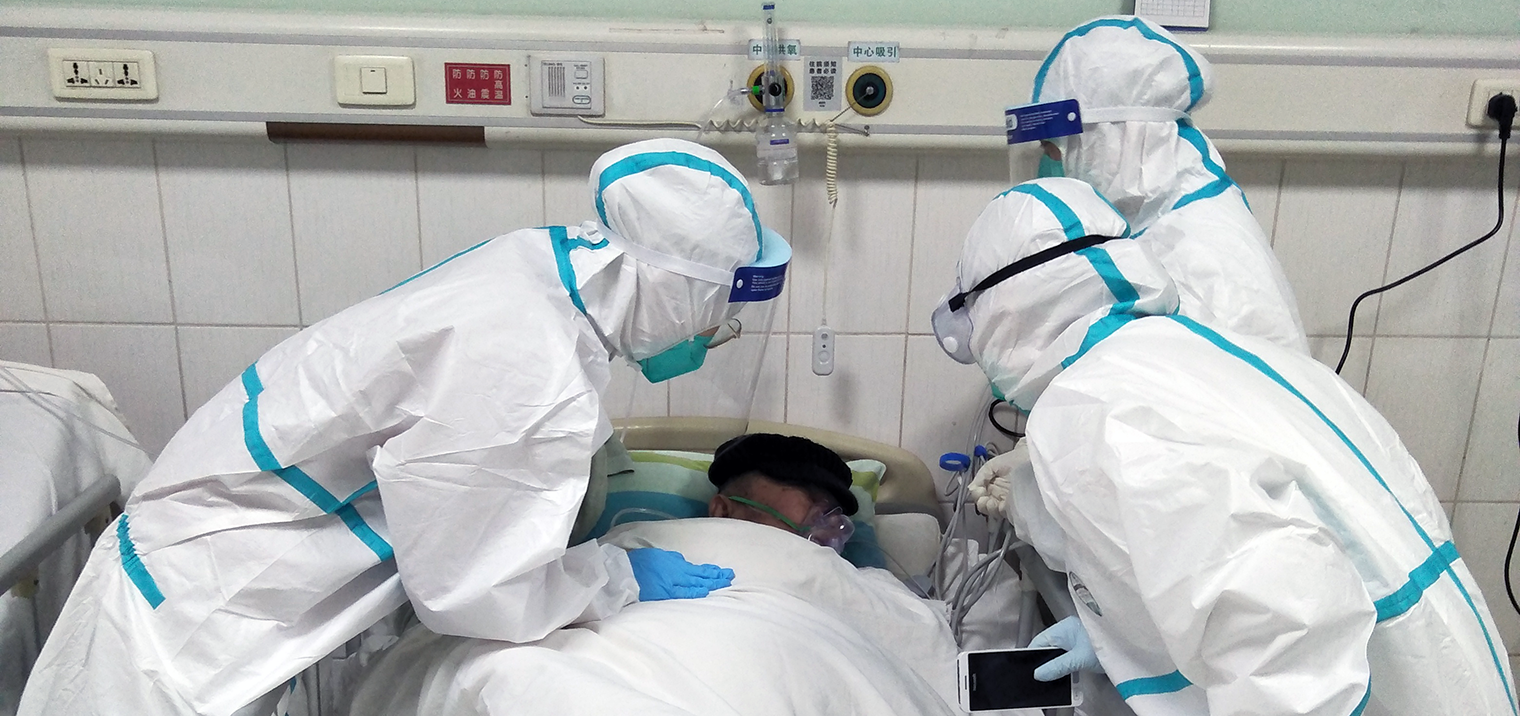Coverall: (15, 125, 777, 716), (936, 170, 1520, 716), (1007, 7, 1350, 551)
Face_Shield: (670, 227, 798, 423), (1000, 88, 1091, 230)
Gloves: (1019, 604, 1123, 697), (622, 537, 745, 606), (962, 444, 1033, 532)
with_mask: (636, 301, 730, 385)
